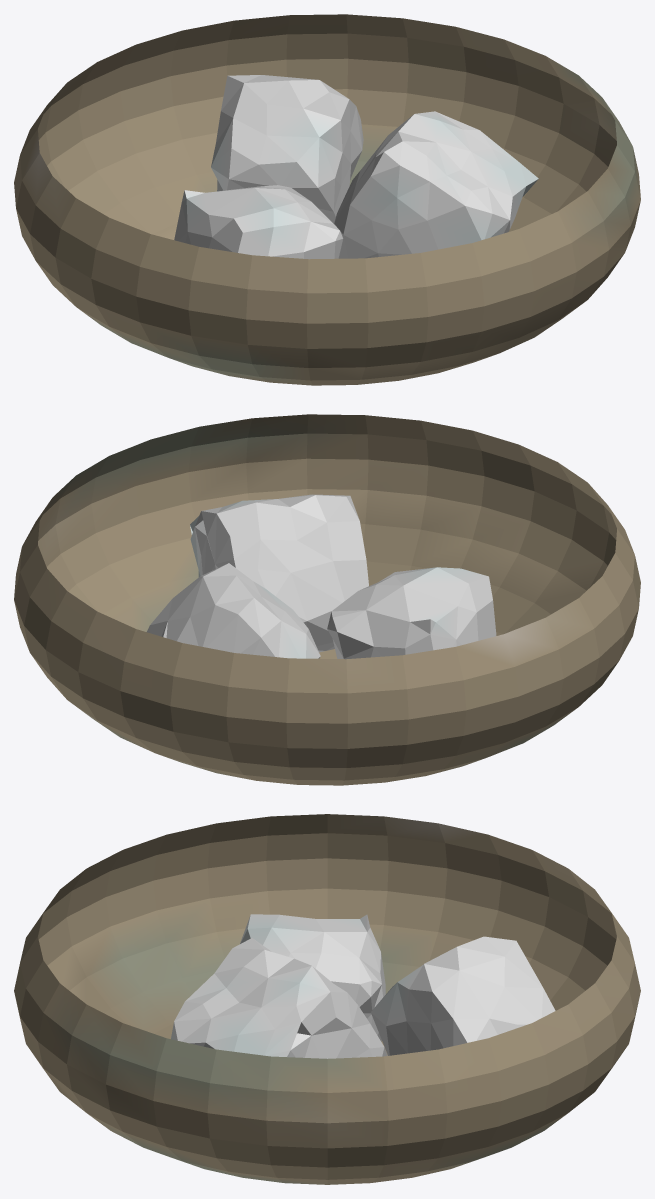
The model's file is sugar.fbx.
The picture shows the model from 3 angles, top to bottom: view 1: azimuth 30°, elevation 25°; view 2: azimuth 150°, elevation 25°; view 3: azimuth 270°, elevation 25°; orthographic projection.
Visible parts, largest first — view 1: Bowl, Sugar; view 2: Bowl, Sugar; view 3: Bowl, Sugar.
Part boxes in pixels (box(x1,y1,x2,y2)): Bowl: box(14, 14, 640, 385); Sugar: box(174, 75, 538, 259); Bowl: box(14, 414, 640, 785); Sugar: box(147, 494, 496, 659); Bowl: box(14, 814, 640, 1184); Sugar: box(171, 914, 555, 1058).
Size of the model in its own units: 160 by 57.9 by 160.
